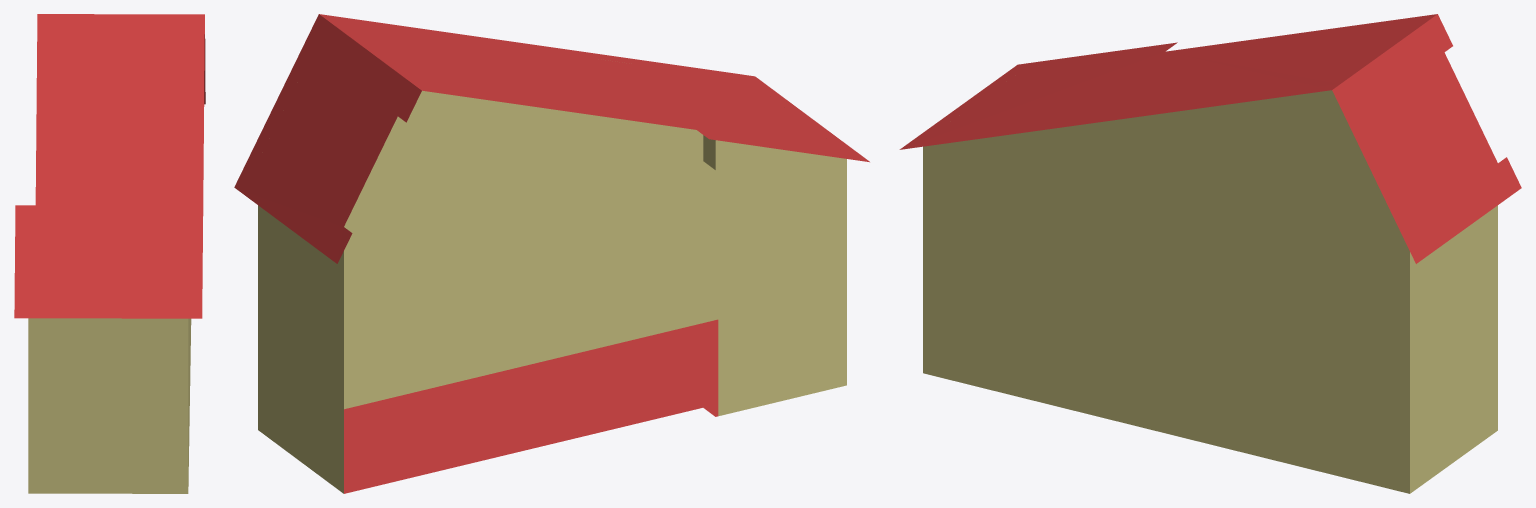
The picture shows the model from 3 angles, left to right: view 1: azimuth 30°, elevation 25°; view 2: azimuth 150°, elevation 25°; view 3: azimuth 270°, elevation 25°; orthographic projection. The views are drawn at different scales.
Bounding box in the file's own units: 14.54 × 17.93 × 12.48.
